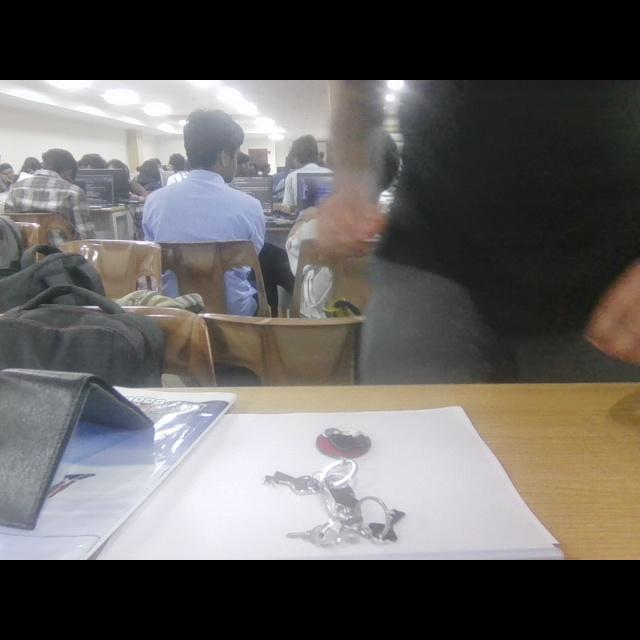keys: (256, 406, 424, 560)
wallet: (0, 346, 164, 536)
